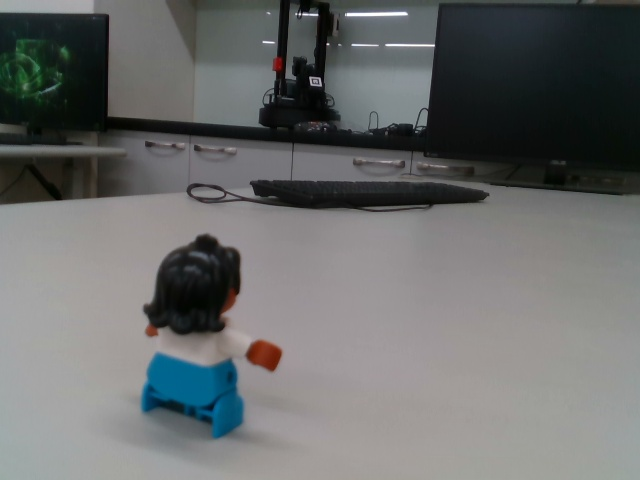people: (135, 233, 285, 439)
